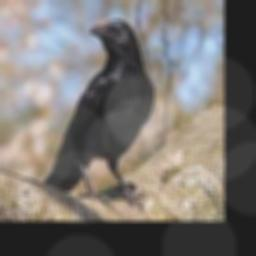Crow: (43, 20, 155, 208)
